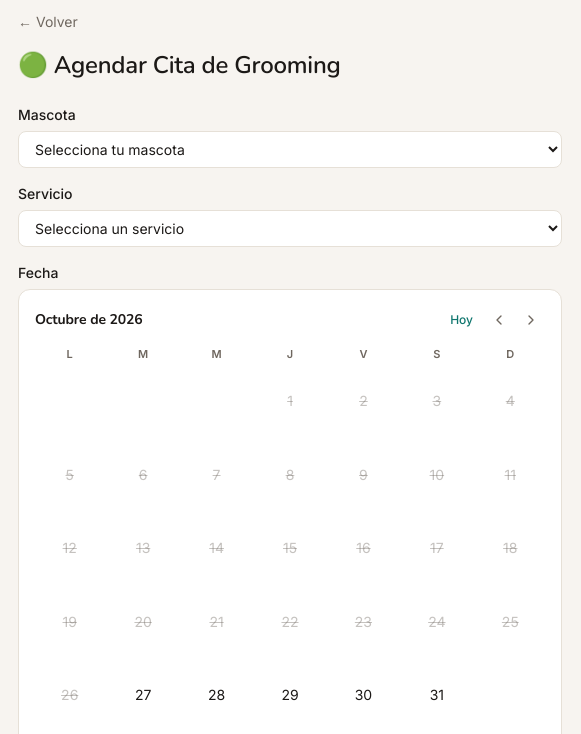
Test: AppointmentPage › bloquea el agendamiento si la mascota necesita revisión antes del baño
Select "Luna" in the dropdown labelled "Mascota" at (290, 150), box x1=18 y1=131 x2=562 y2=168
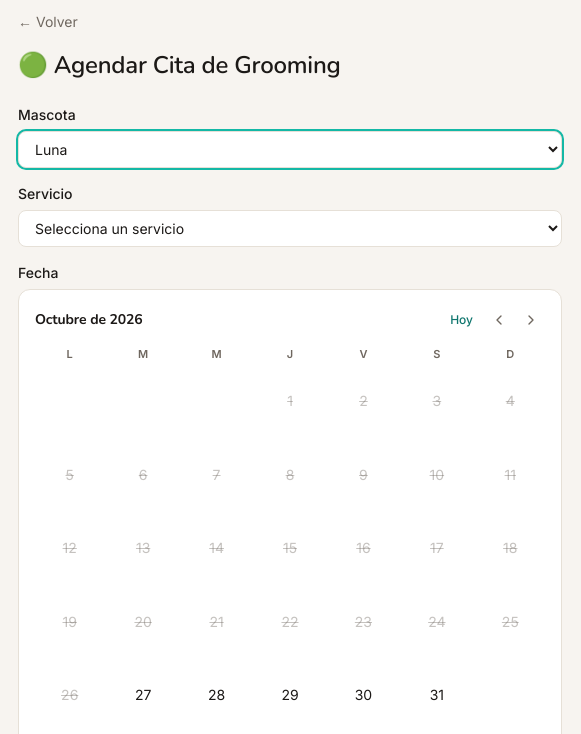
Select "Baño completo — desde $50.000" in the dropdown labelled "Servicio" at (290, 228), box x1=18 y1=210 x2=562 y2=247
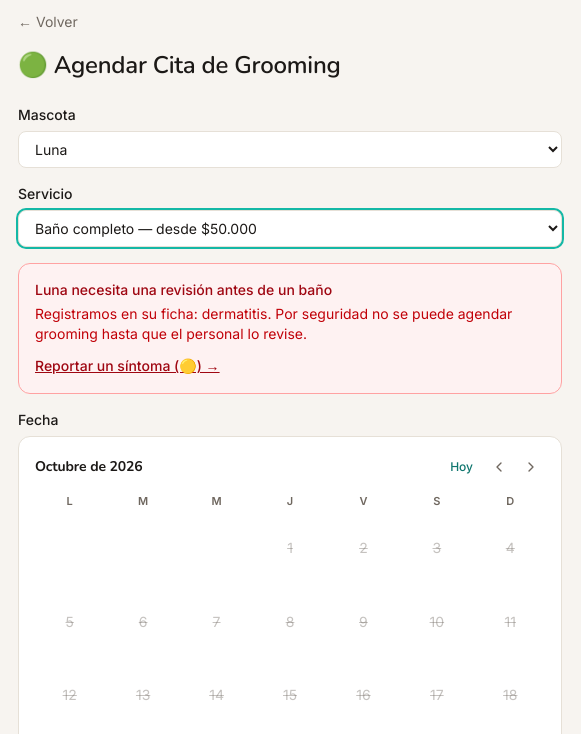
Expected: the text "Luna necesita una revisión antes de un baño" is shown, x1=35 y1=281 x2=332 y2=298
